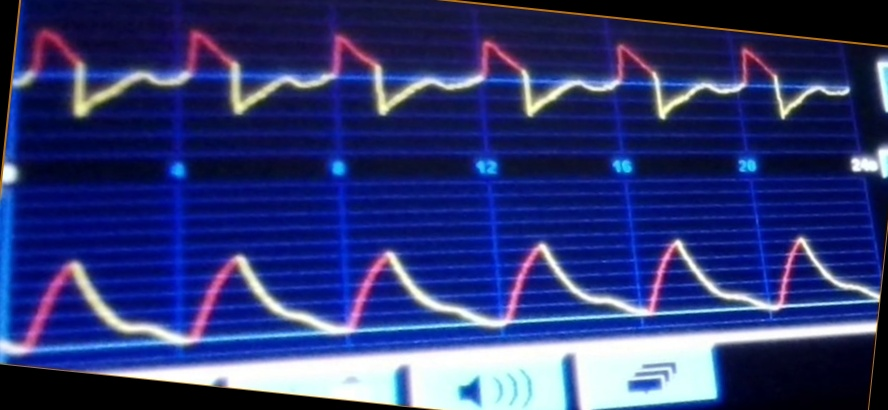Ineffective_effort Flow: (17, 24, 850, 128)
Ineffective_effort Volume: (10, 234, 874, 346)
